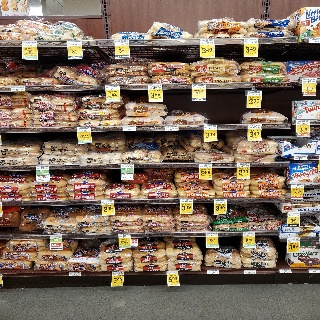All PRICE TAGS: (243, 37, 259, 44), (114, 40, 130, 46), (302, 78, 317, 84), (200, 39, 215, 45), (67, 40, 81, 46), (192, 83, 206, 89), (22, 41, 37, 46), (10, 86, 25, 91), (105, 85, 120, 90), (247, 90, 262, 95), (296, 120, 310, 125), (294, 155, 308, 160), (148, 84, 162, 89), (122, 126, 136, 131), (203, 125, 217, 130), (118, 233, 131, 238), (199, 163, 212, 168), (36, 165, 49, 170), (248, 124, 261, 129), (77, 127, 90, 132), (244, 269, 256, 274), (309, 37, 319, 43), (292, 183, 304, 188), (288, 212, 300, 217), (165, 126, 179, 130), (214, 199, 227, 203), (180, 199, 193, 203), (101, 200, 114, 204), (237, 163, 250, 167), (207, 270, 219, 274), (112, 271, 124, 275), (69, 272, 81, 276), (243, 232, 255, 236), (206, 232, 218, 236), (50, 235, 62, 239), (121, 164, 133, 168), (287, 238, 299, 242), (280, 269, 292, 273), (167, 270, 178, 274), (309, 269, 319, 273)
